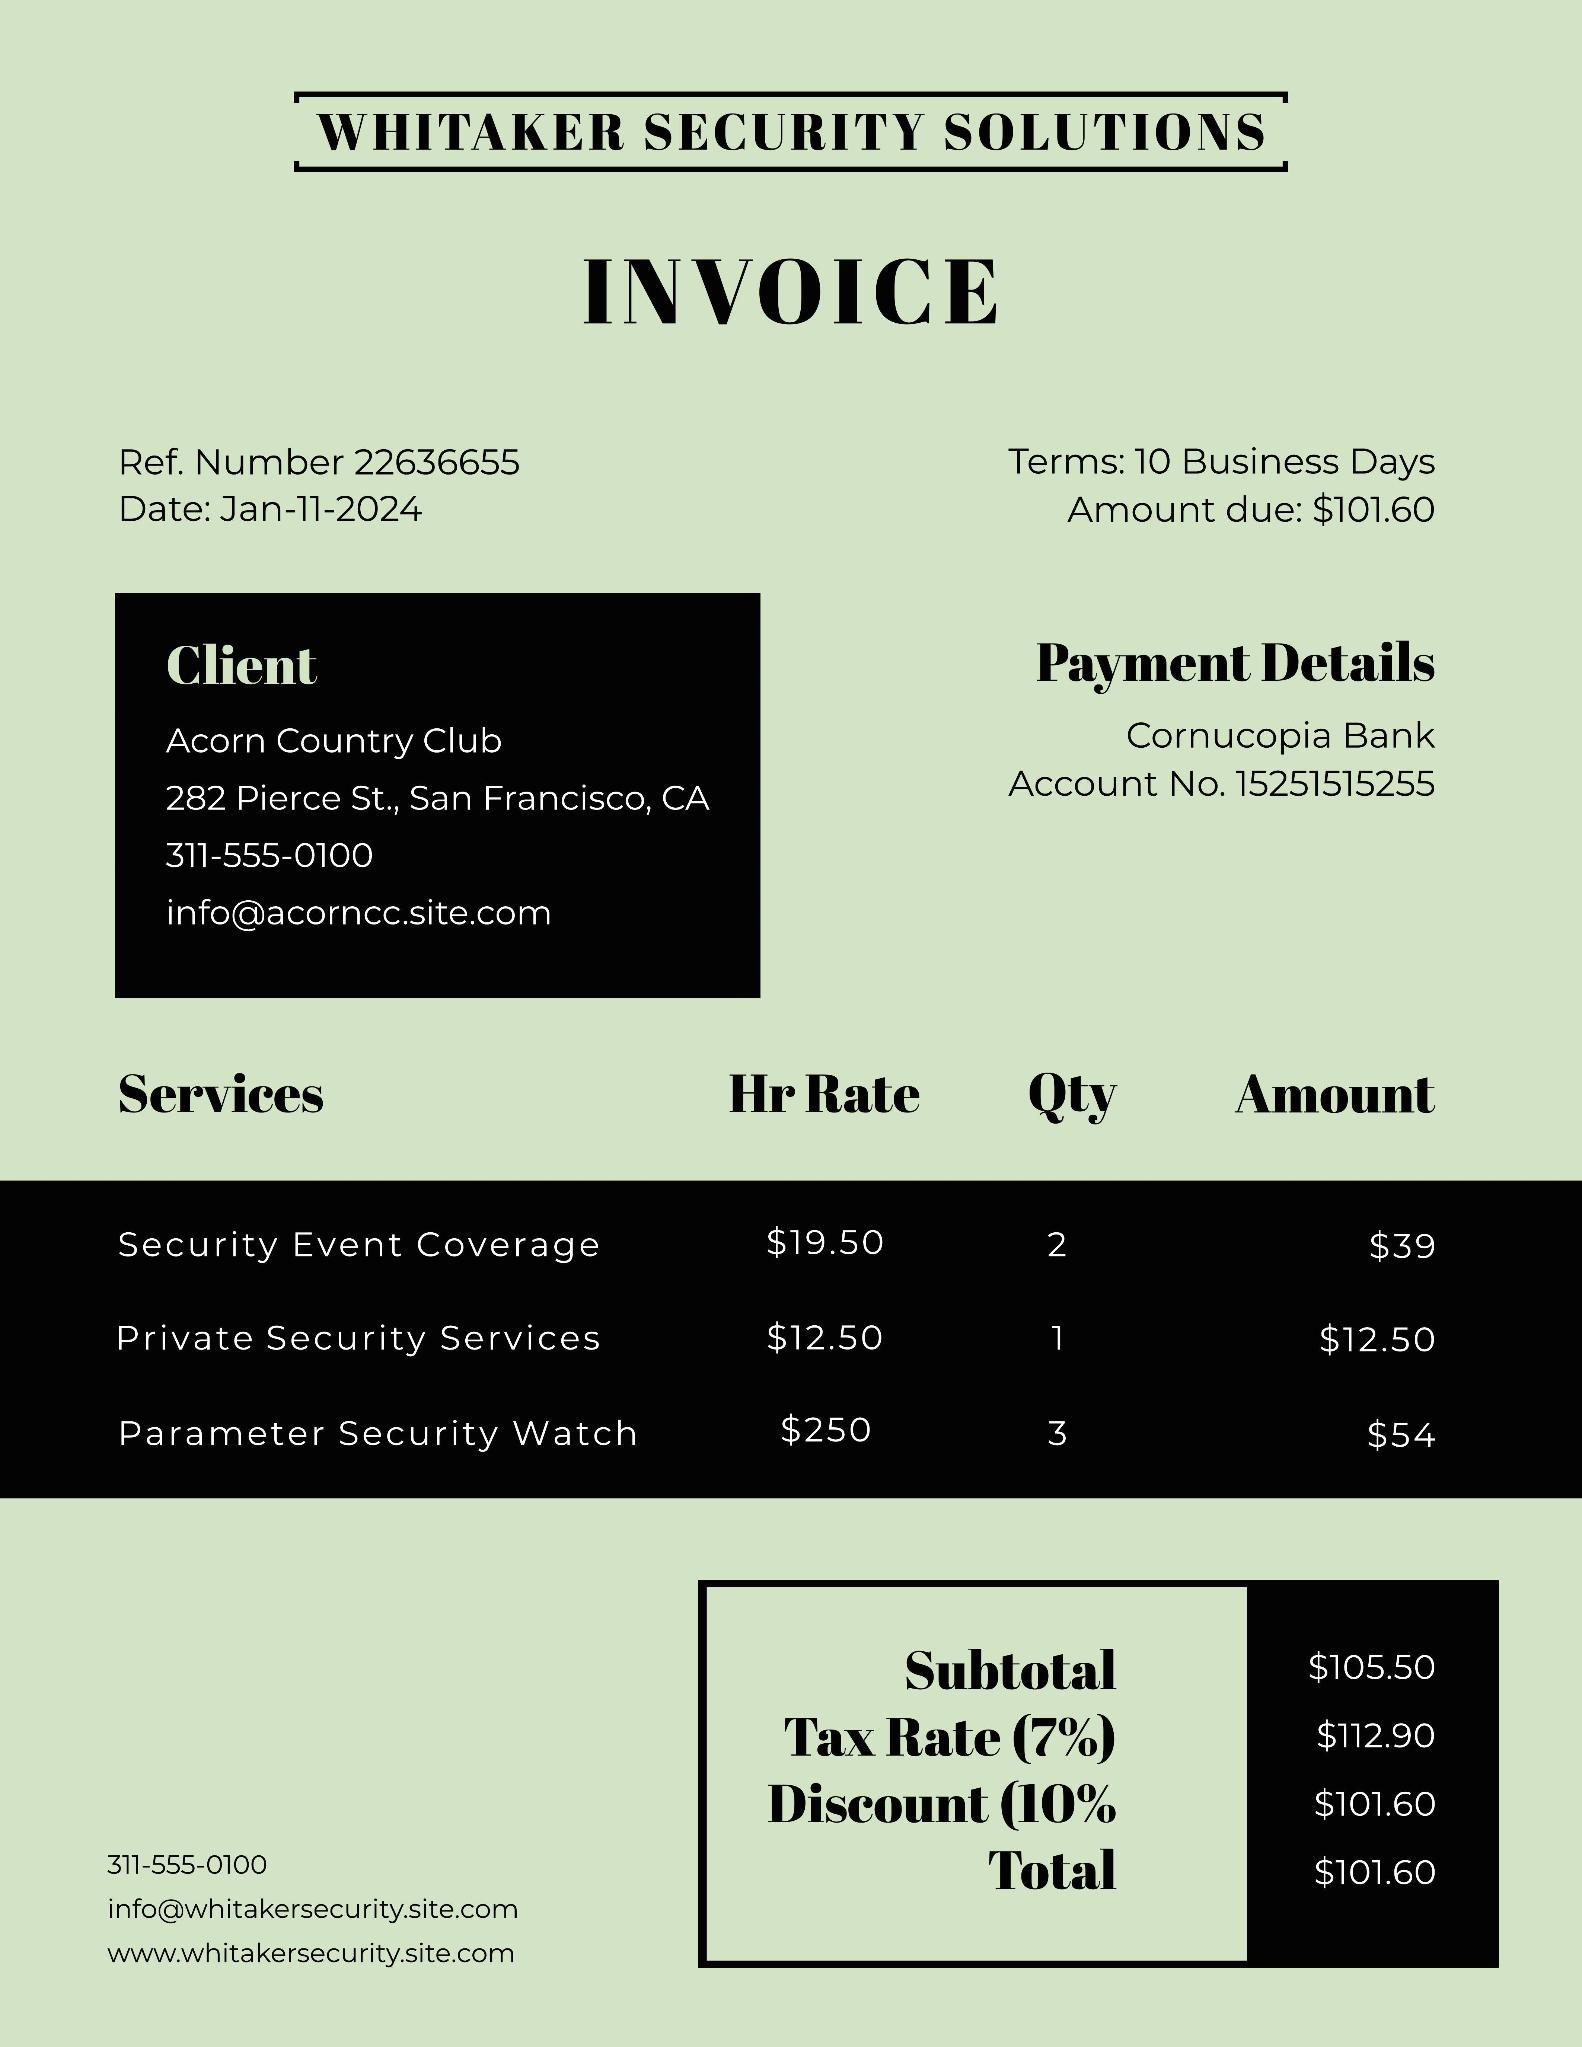ROI: (32, 1055, 1539, 1523), (683, 1570, 1521, 1973), (76, 571, 818, 1019), (288, 73, 1290, 194), (966, 620, 1464, 846), (65, 1815, 573, 2009), (981, 438, 1486, 541), (80, 434, 548, 539), (564, 247, 1014, 339)
